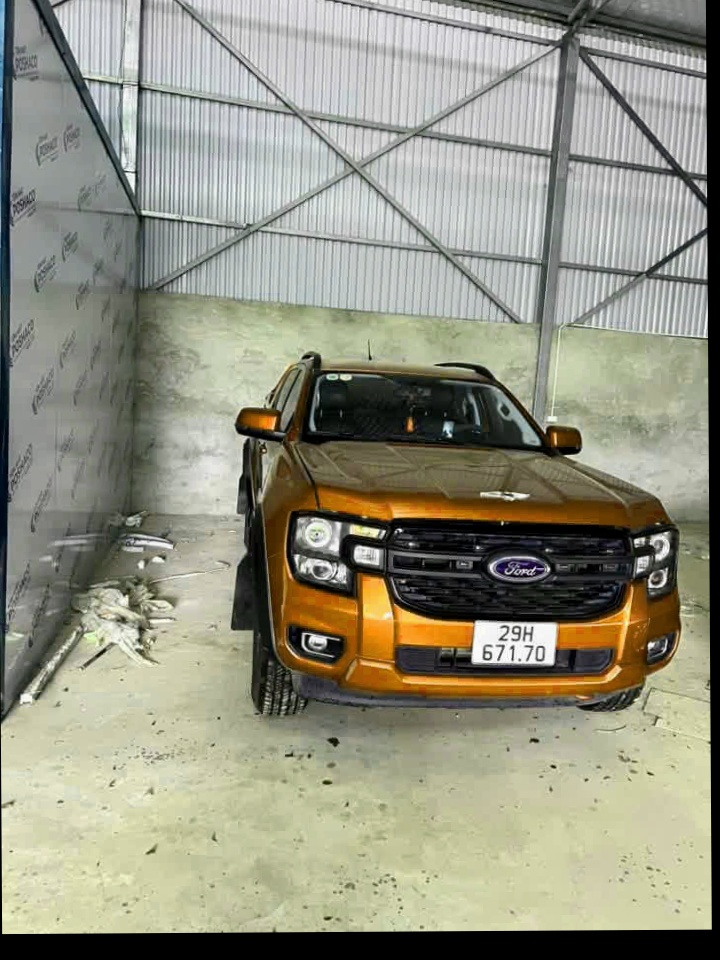Bien-so: (480, 638, 558, 695)
